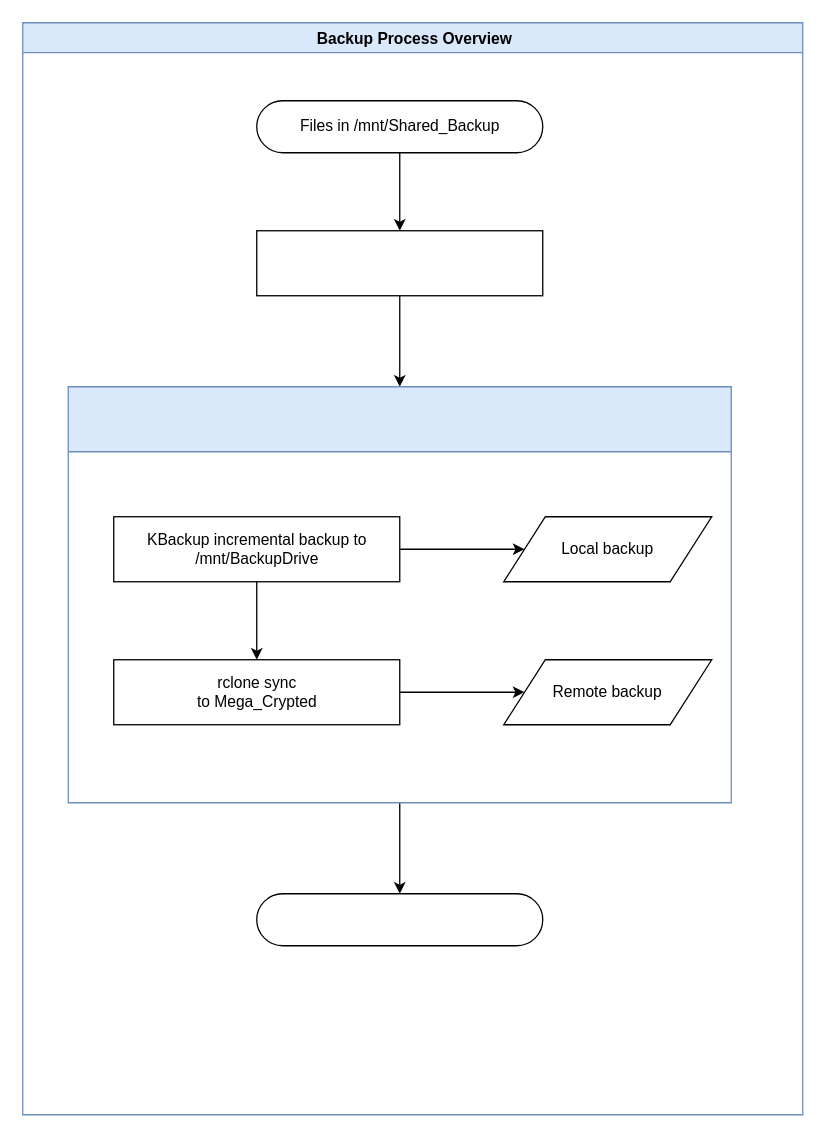
Some shapes in this 826 by 1138 pixel diagram are drawn without their labels. Here are the shapes that lost their labels. From the top down, the box of each, then its label:
(255, 229, 543, 296): Cron task @4 a.m.
(67, 385, 731, 803): Bash script /home/pi/KBackup/Scripts/kbackup.sh
(255, 892, 543, 946): End
